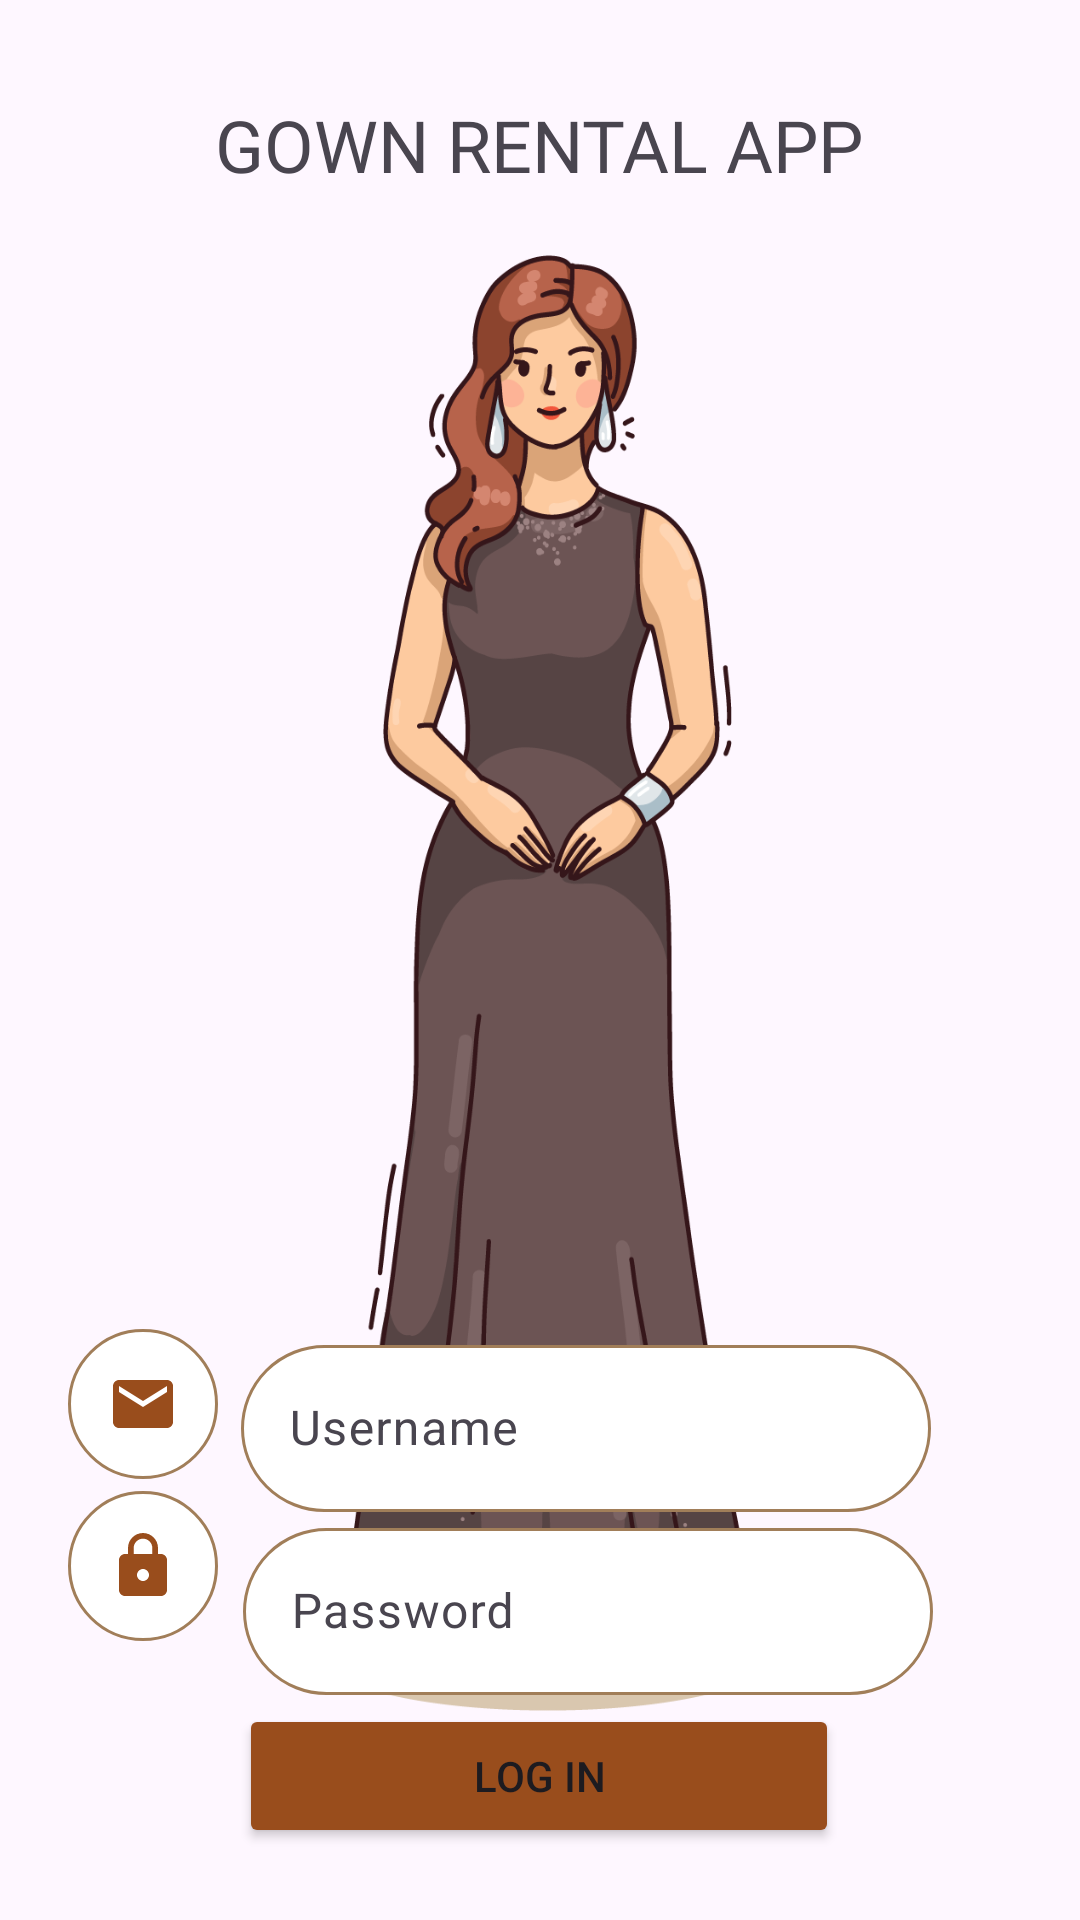

Icon click points for this 1080px x 1920px phone screenshot, format [x,y]:
lock: [143,1566]
mail: [143,1404]
